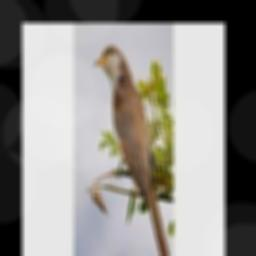Cuckoo: (95, 45, 170, 256)
